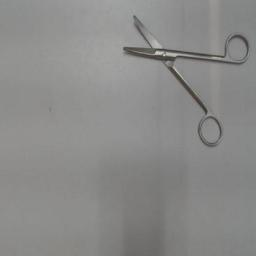Curved Mayo Scissors: (118, 6, 252, 152)
